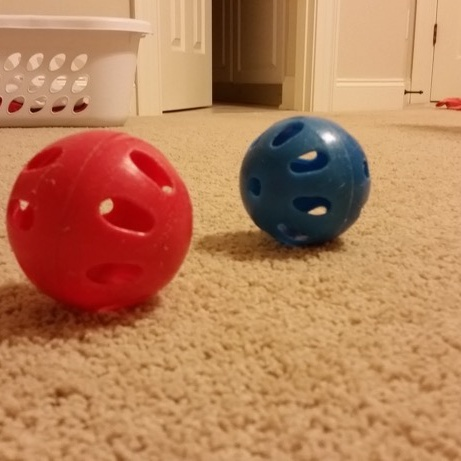ball: (0, 126, 204, 322), (233, 111, 375, 254)
